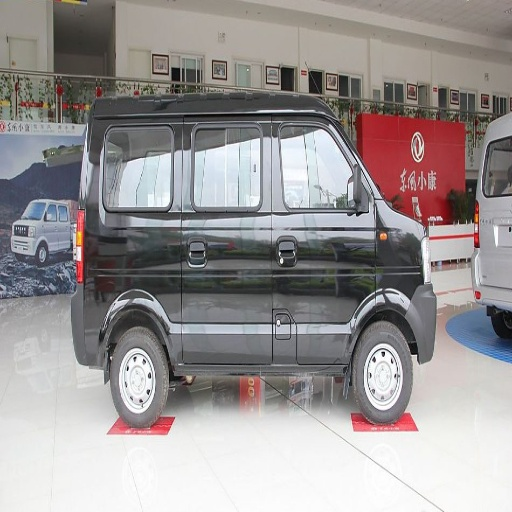back_right_door: (153, 115, 272, 361)
trunk: (89, 269, 149, 343), (315, 299, 359, 362)
